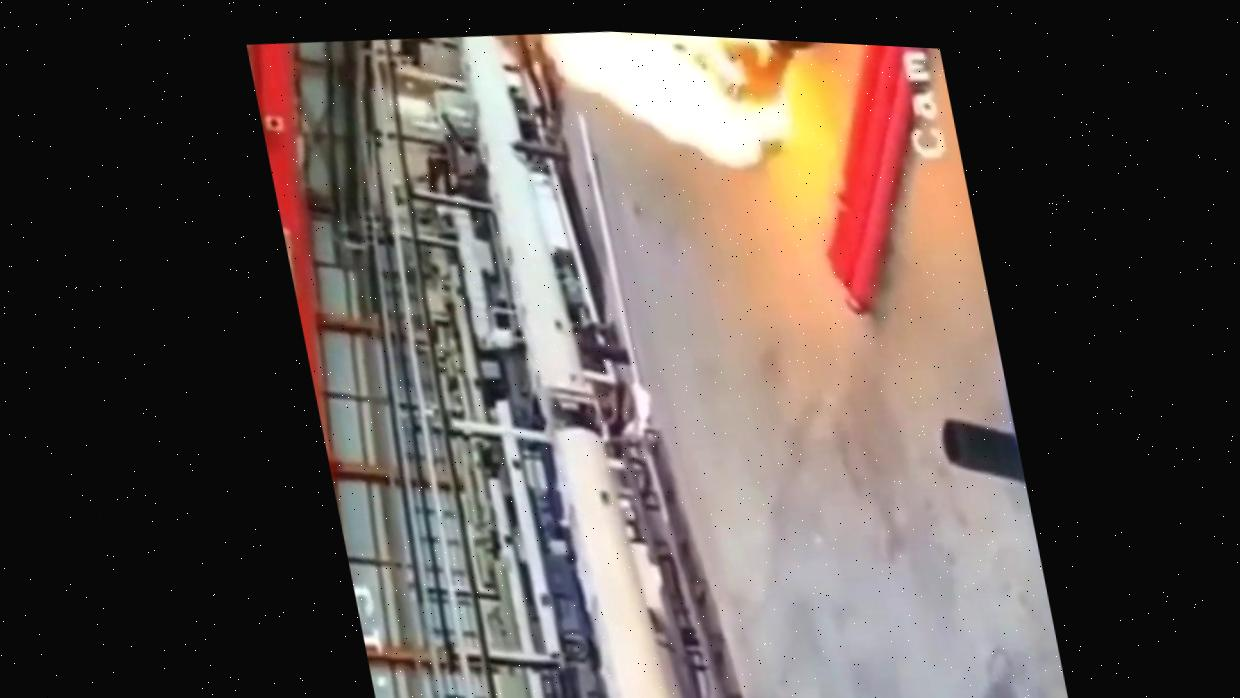fire: (472, 28, 902, 262)
